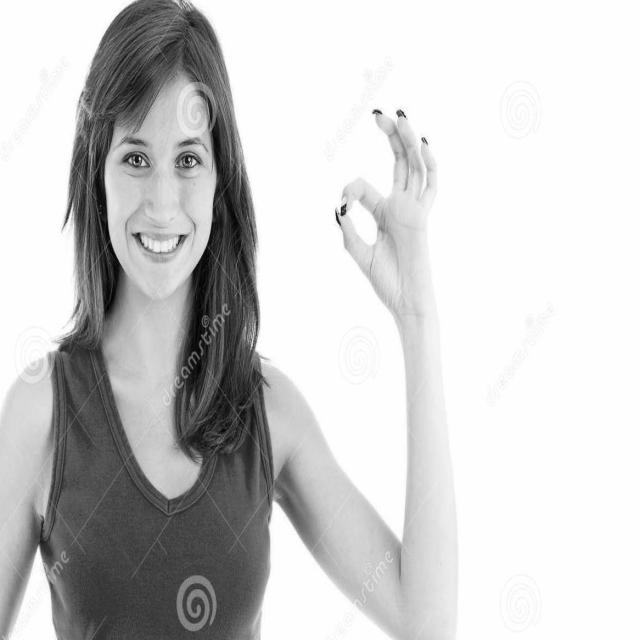perfect: (329, 99, 446, 327)
